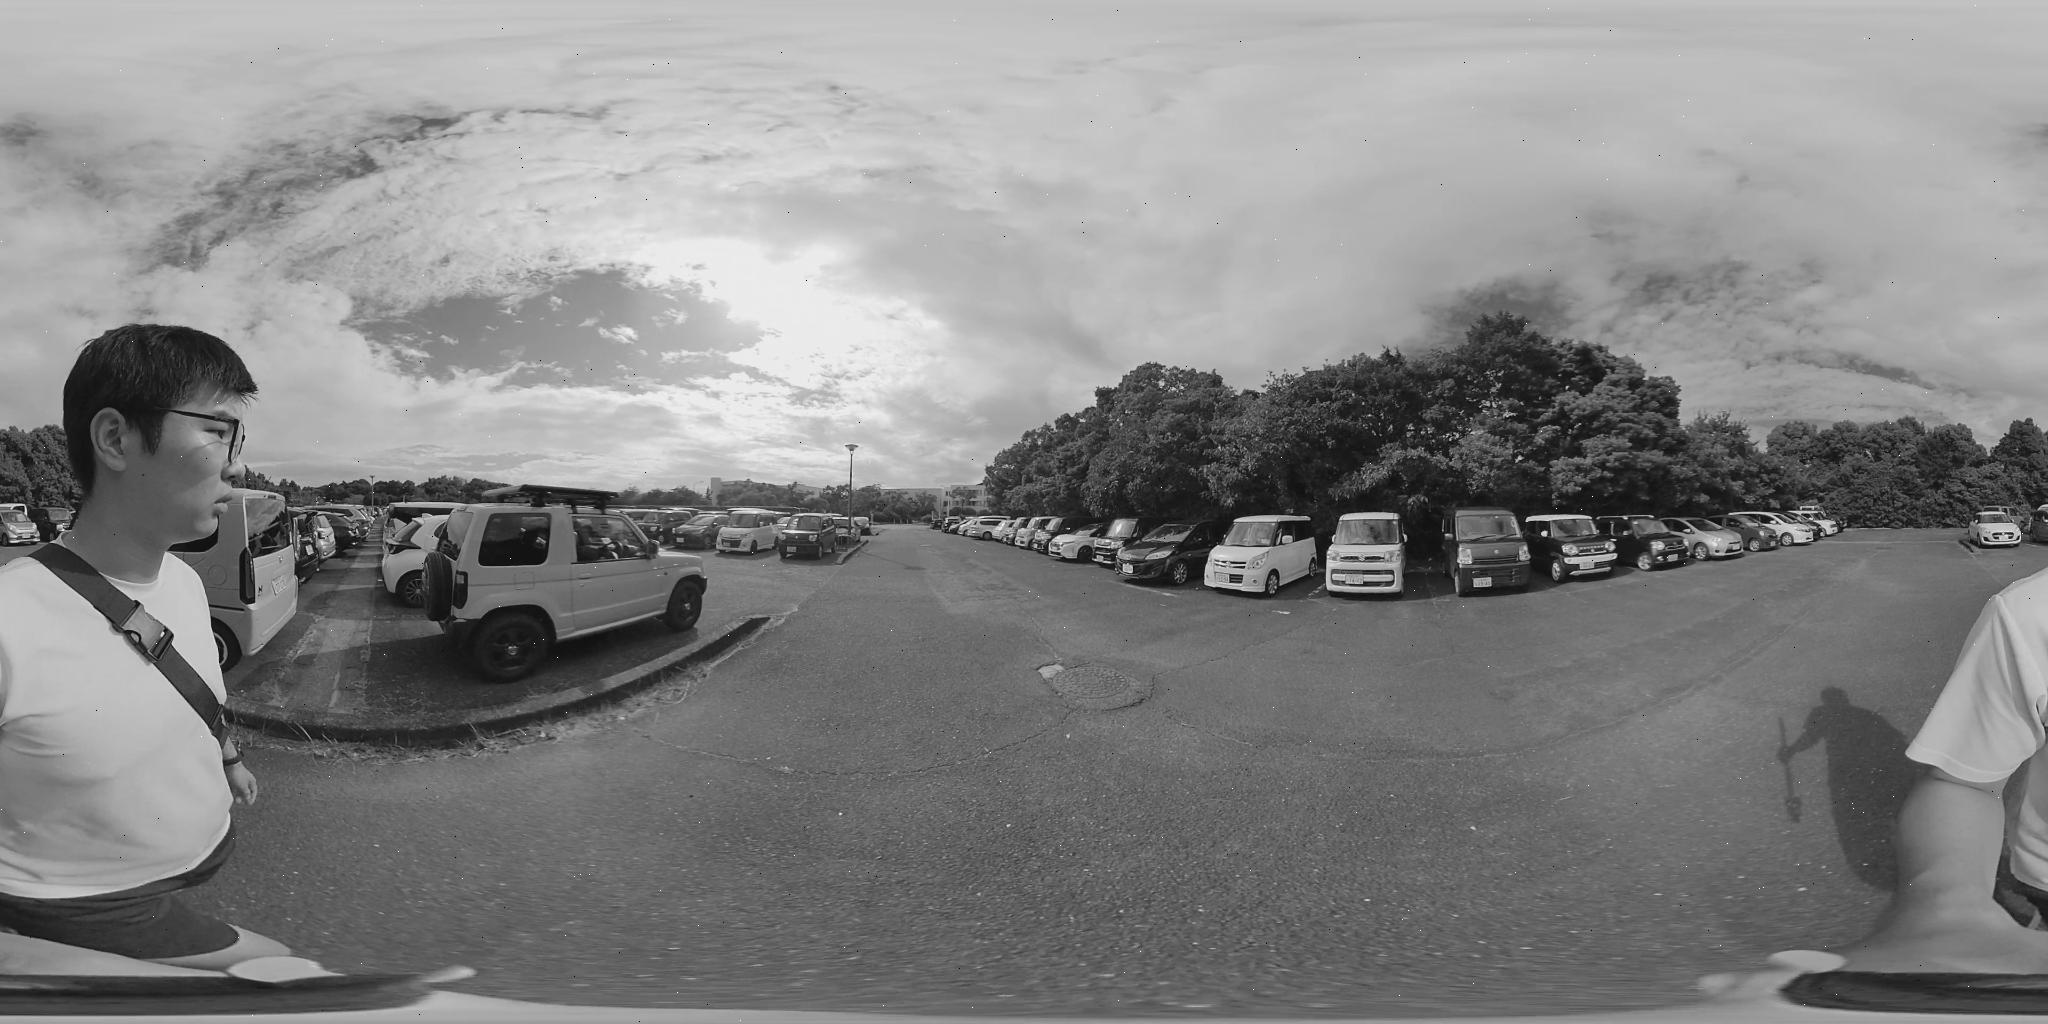car: (428, 503, 712, 657), (1203, 516, 1327, 596), (1445, 509, 1532, 596), (1330, 515, 1404, 592), (1118, 522, 1204, 584), (1625, 516, 1719, 569), (1527, 516, 1607, 579), (1050, 517, 1132, 563), (773, 516, 857, 558), (701, 512, 778, 551), (1716, 515, 1796, 552), (1964, 509, 2024, 549), (1006, 519, 1061, 552), (674, 517, 730, 549), (952, 519, 1015, 543)
